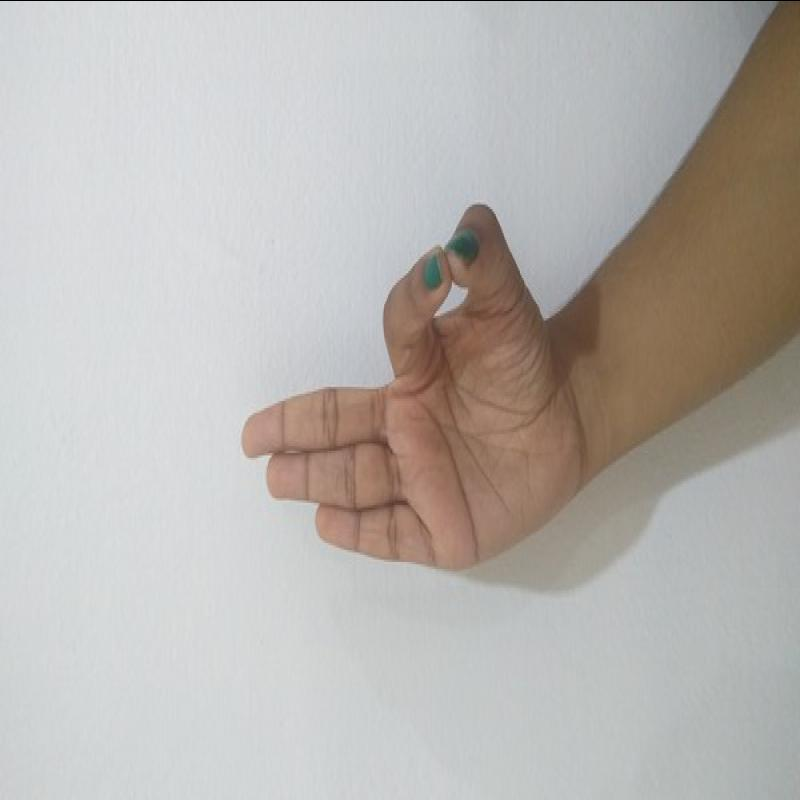Mudraakhyam: (198, 197, 603, 591)
